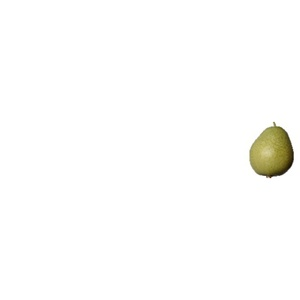pera: (248, 122, 295, 180)
